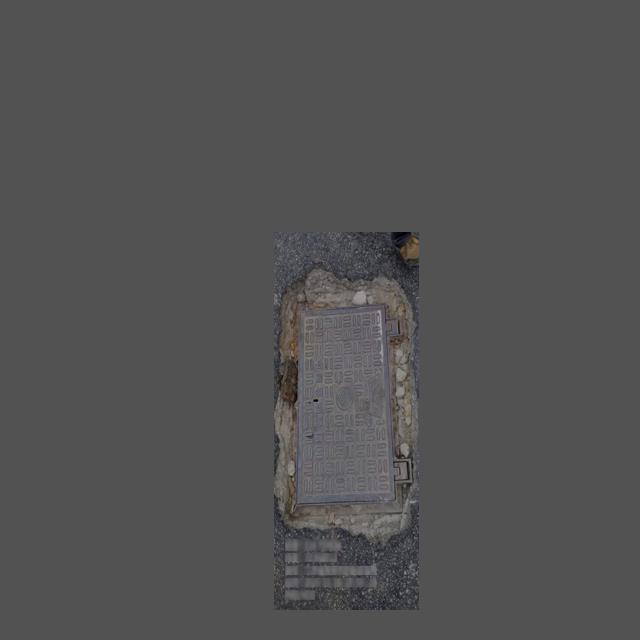circle: (281, 287, 414, 529)
